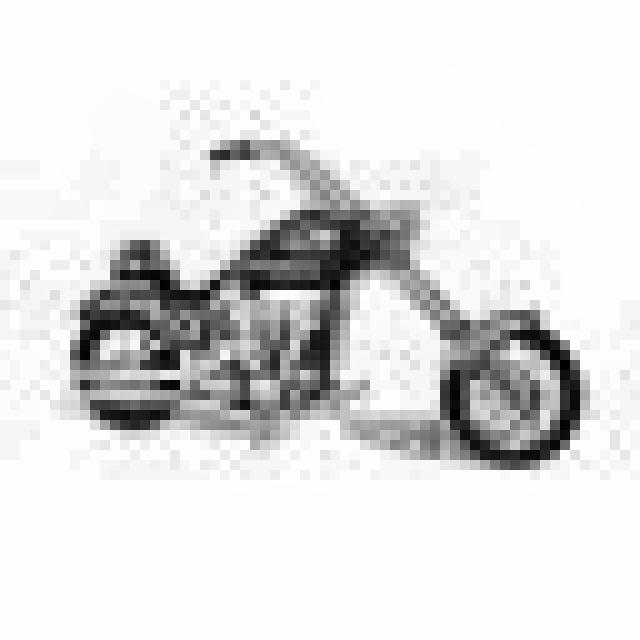mopeds: (59, 129, 607, 519)
